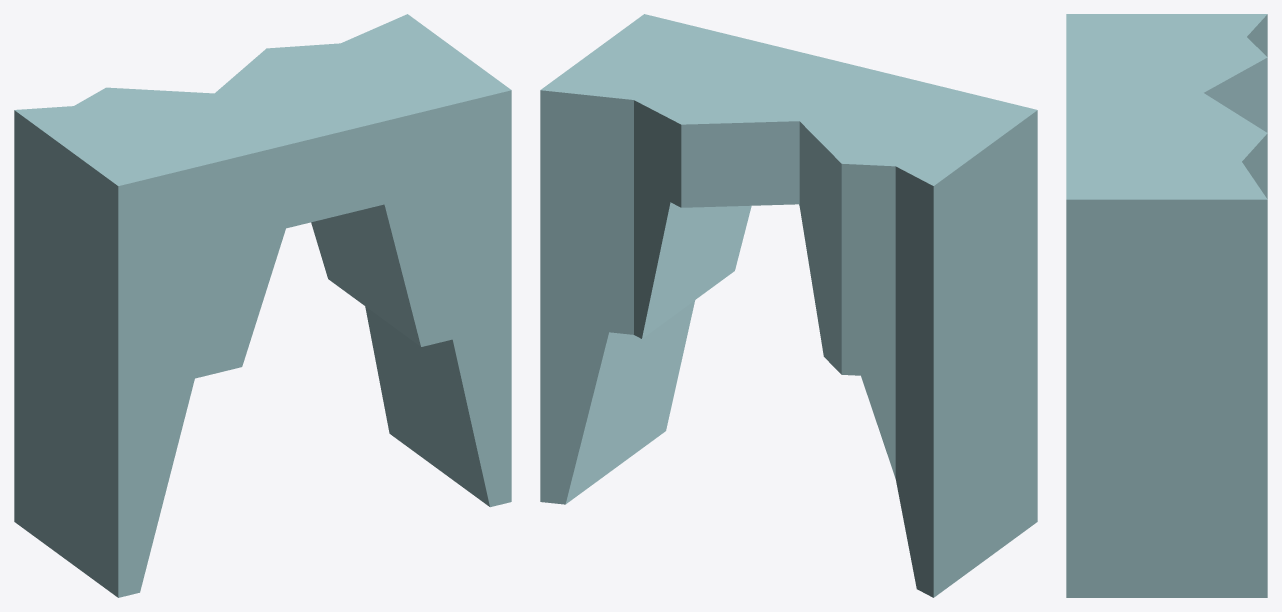
Rendered from cliffGrey_entrance.obj.
3 renders of one model, left to right at view 1: azimuth 30°, elevation 25°; view 2: azimuth 150°, elevation 25°; view 3: azimuth 270°, elevation 25°, orthographic. The views are drawn at different scales.
Visible parts, largest first — view 1: cliffGrey_entrance; view 2: cliffGrey_entrance; view 3: cliffGrey_entrance.
Part boxes in pixels (x1,y1,x2,y2): cliffGrey_entrance: [14, 14, 511, 597]; cliffGrey_entrance: [540, 14, 1037, 597]; cliffGrey_entrance: [1066, 14, 1267, 597].
Size of the model in its own units: 10 by 10 by 4.58.
